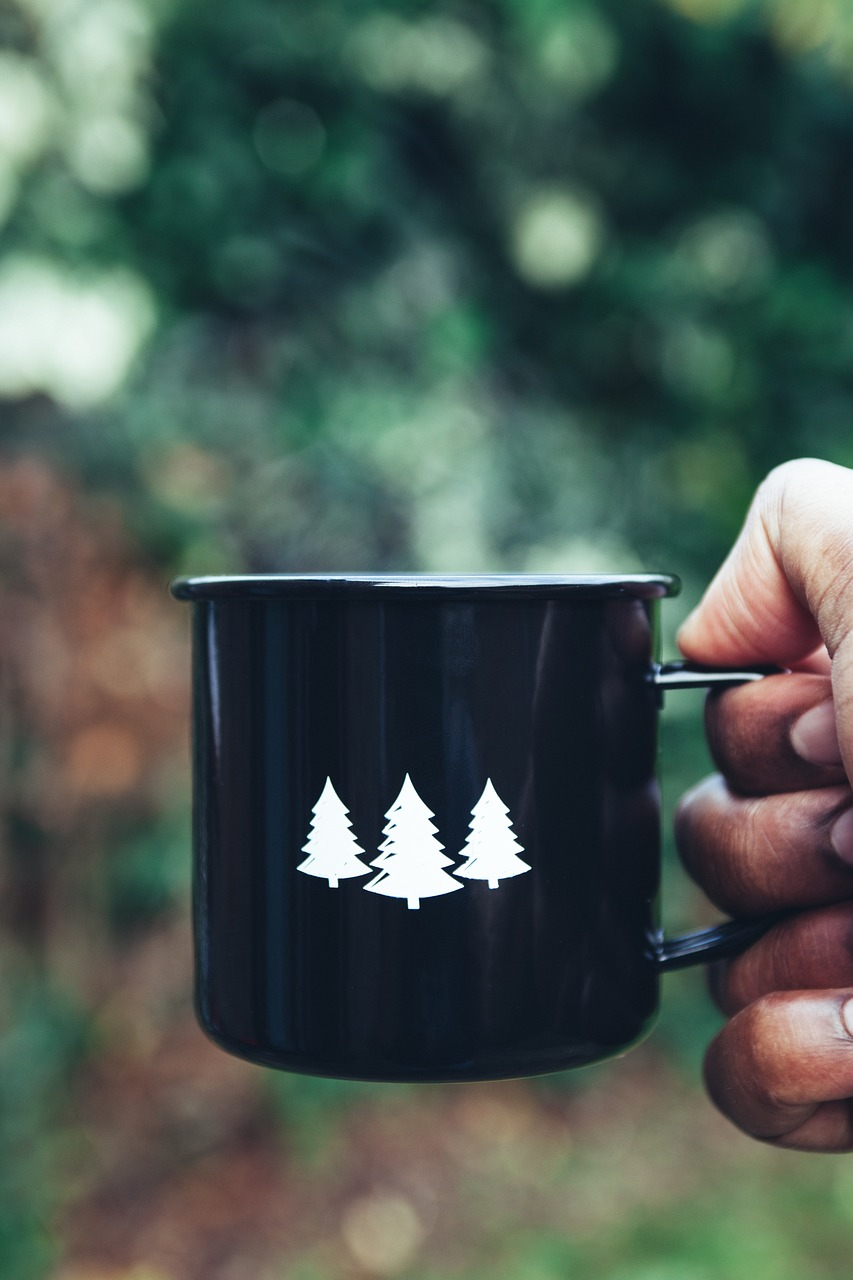mug: (130, 534, 824, 1129)
